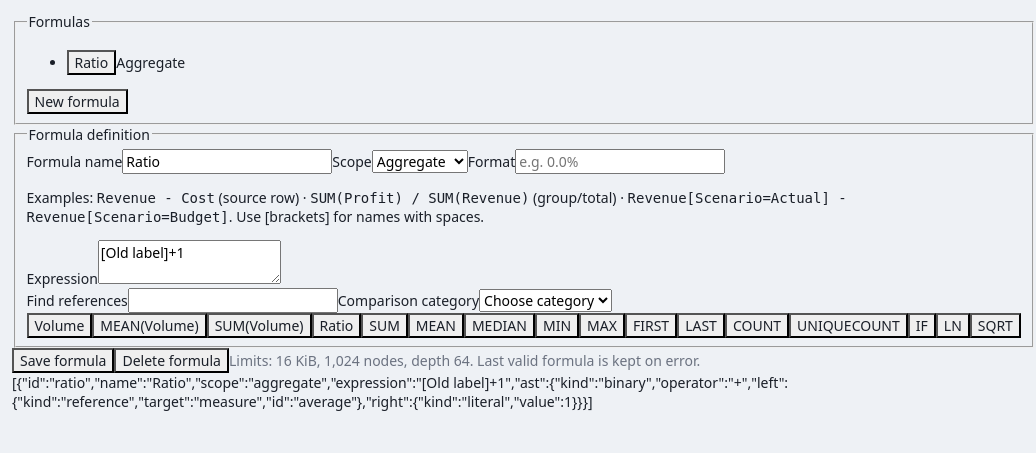
Test case: preserves stable AST references when renaming a definition after its input is renamed
Replace the text in the field labelled "Formula name" with "New ratio": [227, 161] box [122, 148, 332, 174]
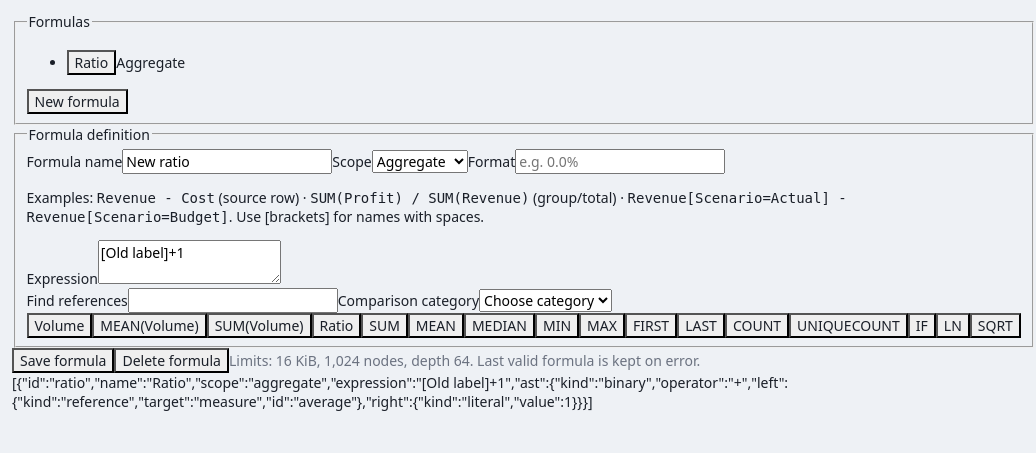
Click the button "Save formula": [63, 361] box [12, 348, 114, 373]
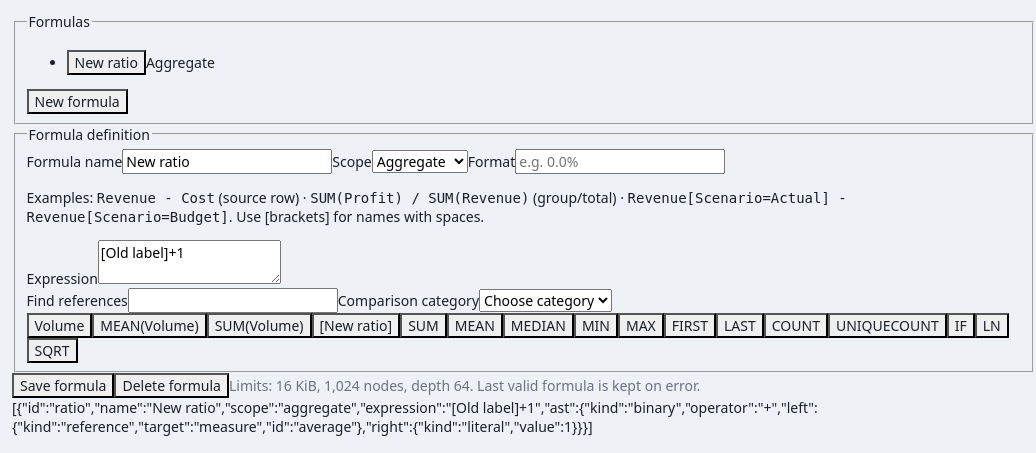
Expected: the text named "Saved model" shows "\"id\":\"average\"", [12, 398, 818, 436]
Now the text named "Saved model" shows "New ratio", box [12, 398, 818, 436]
